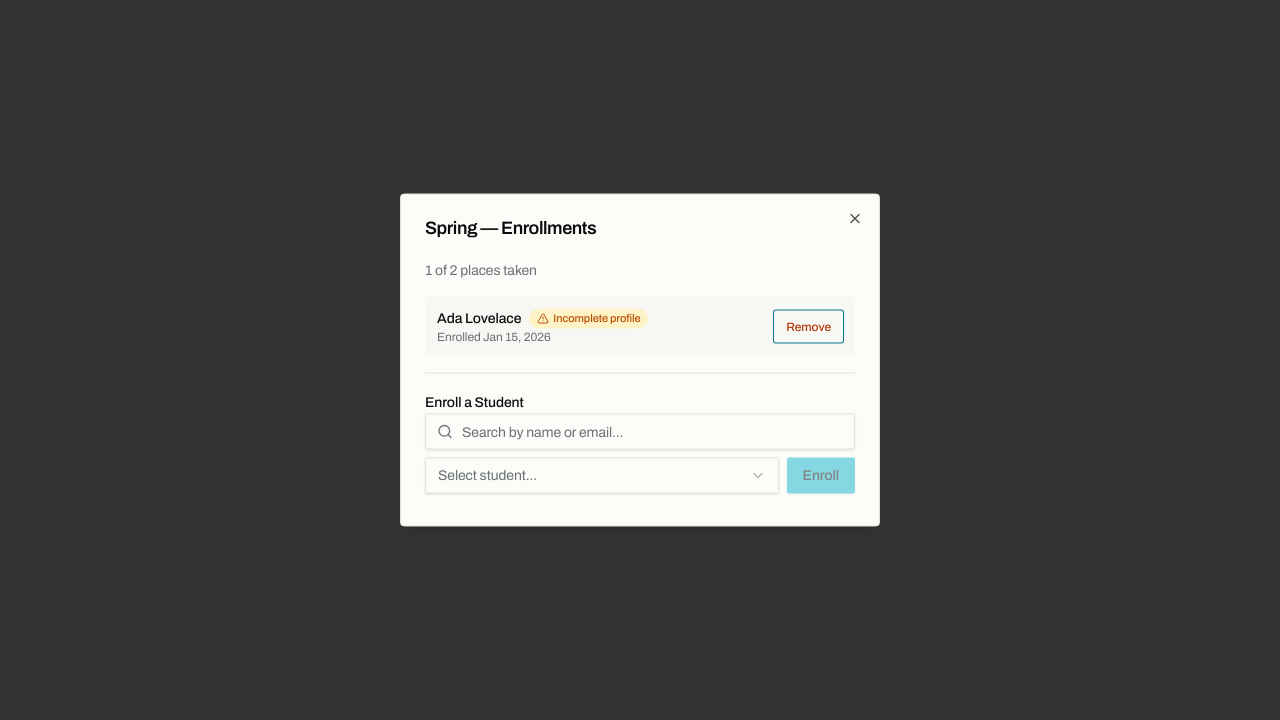
Test: Enrollments › keeps the student when Cancel is clicked
Click the button "Remove".
click(809, 326)  # box [774, 310, 843, 342]
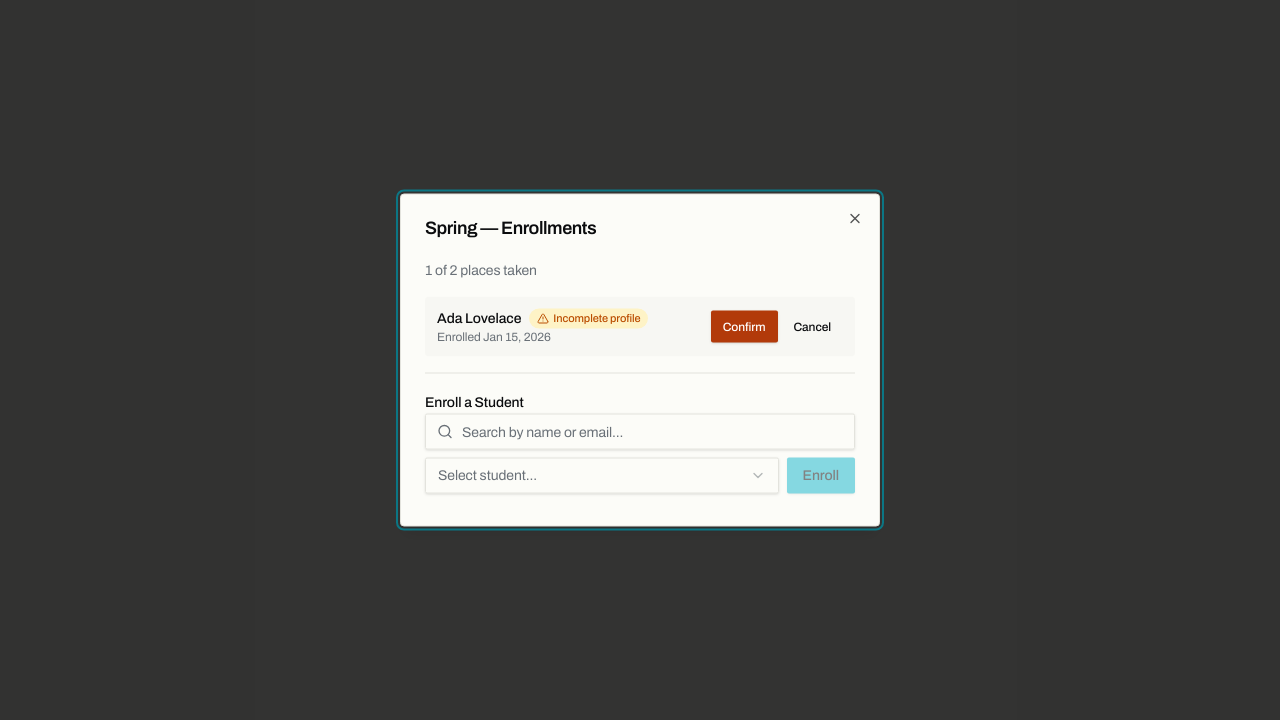
Click the button "Cancel".
click(812, 326)  # box [782, 310, 843, 342]
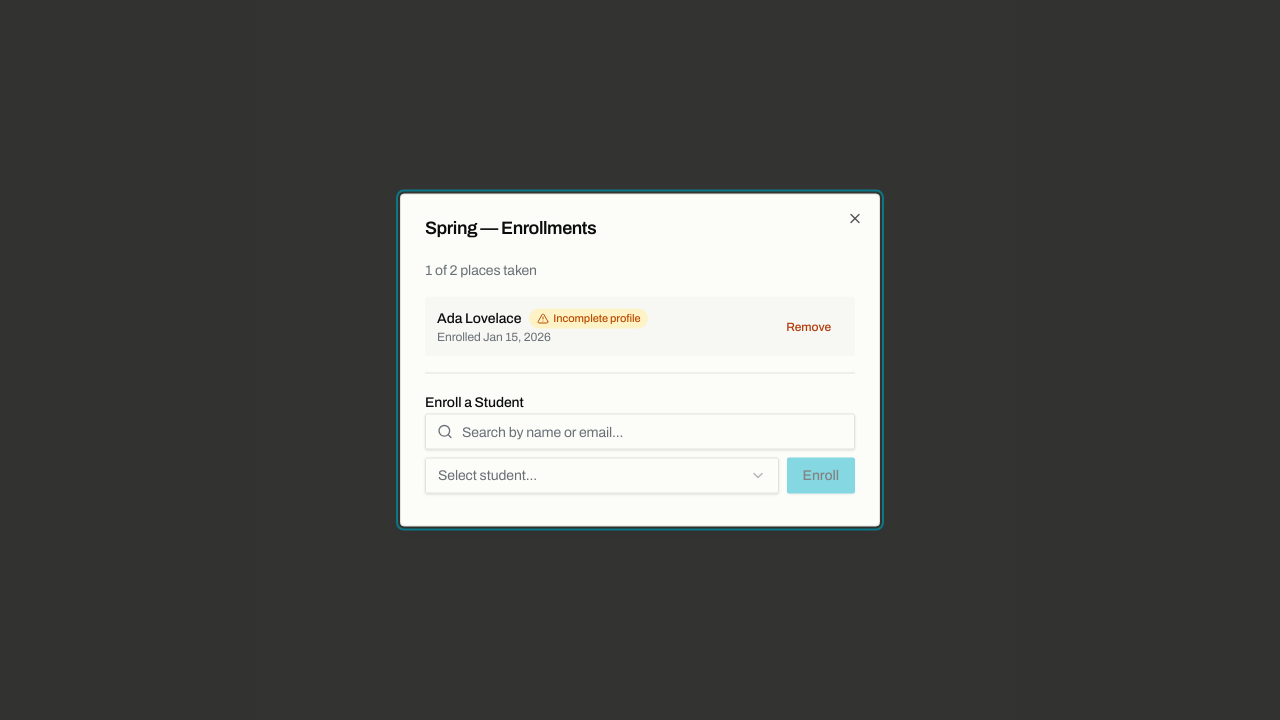
Now the button "Remove" is shown, box [774, 310, 843, 342]
